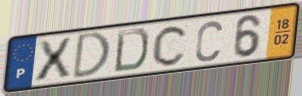6: (232, 13, 265, 59)
C: (151, 23, 191, 68), (194, 19, 225, 64)
D: (70, 30, 112, 82), (112, 27, 151, 75)
X: (33, 36, 73, 84)
